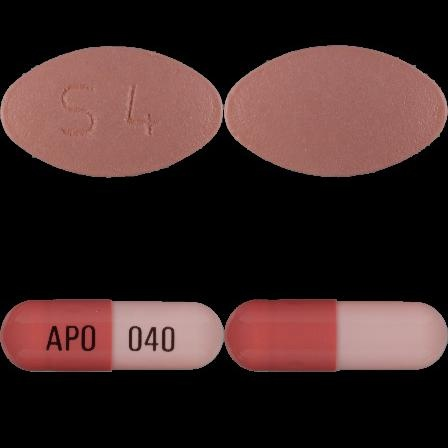68788-9747: (0, 0, 224, 224)
